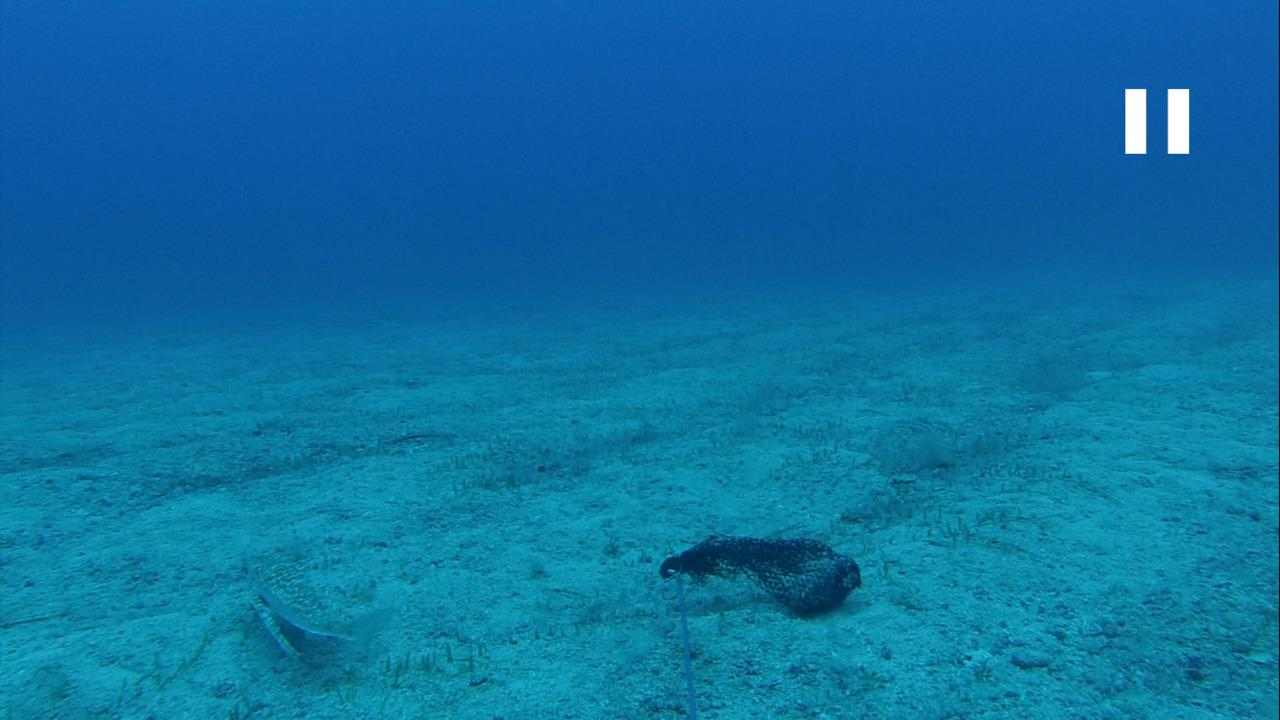dactylopterus: (228, 543, 392, 668)
